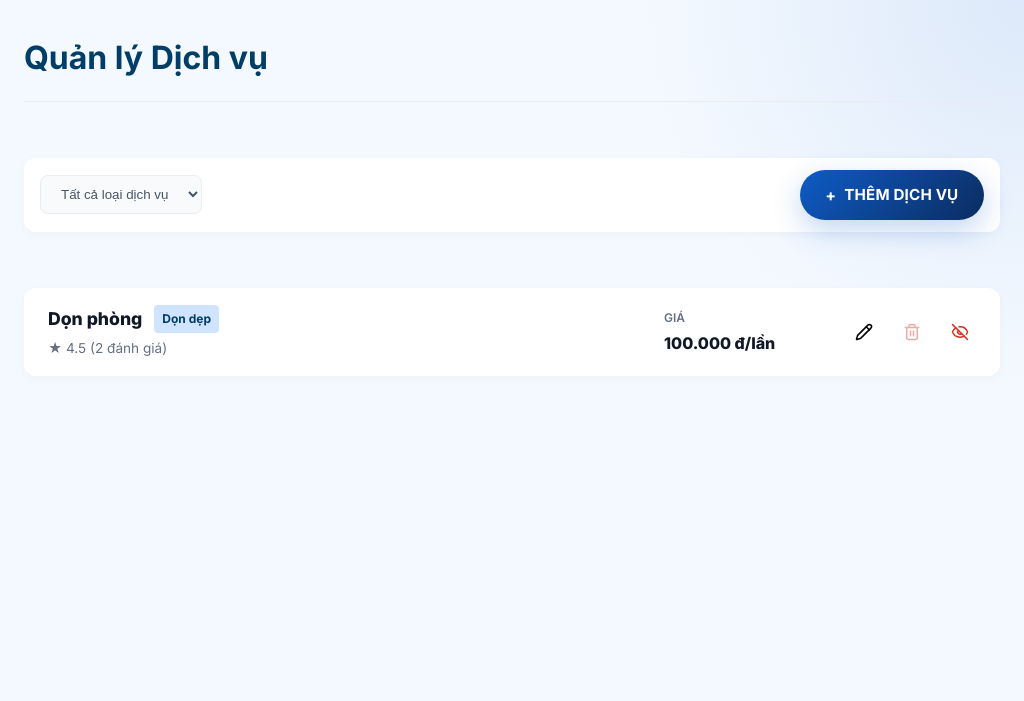
Scenario: ServiceManagement › bấm "Chọn ảnh" mở picker, chọn xong thì nối vào ô images
This screenshot has width=1024, height=701.
Expected: the text "Dọn phòng" is shown, [48,304,142,333]
Click the button "+ THÊM DỊCH VỤ". click: (892, 195)
box: [800,170,984,220]
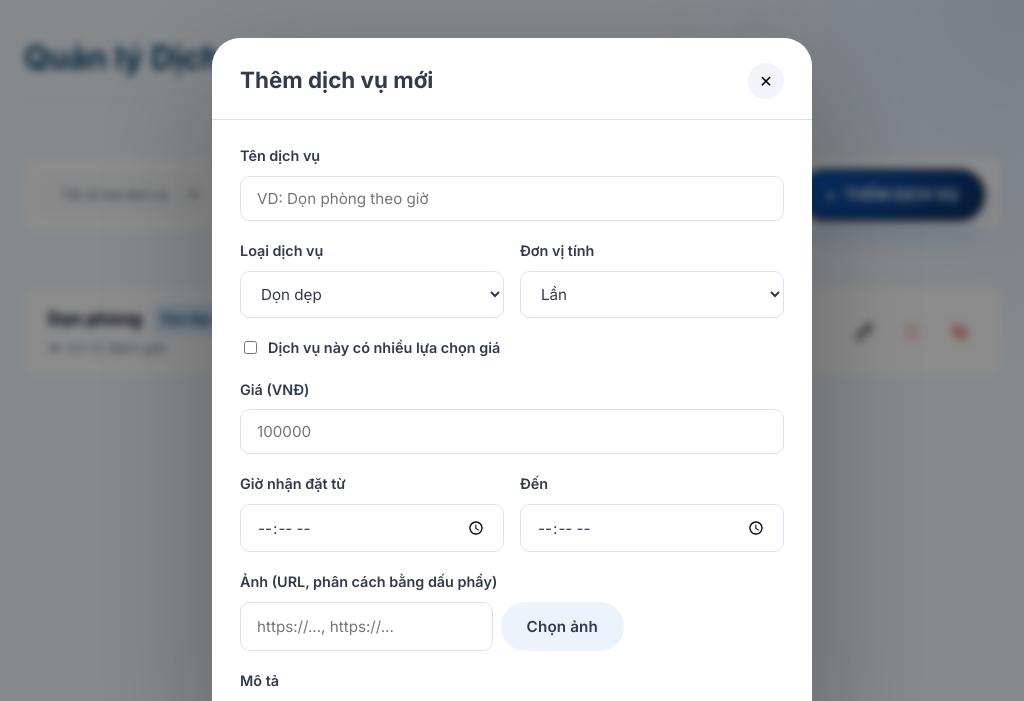
Click the button "Chọn ảnh". click: (562, 626)
box: [501,602,624,651]
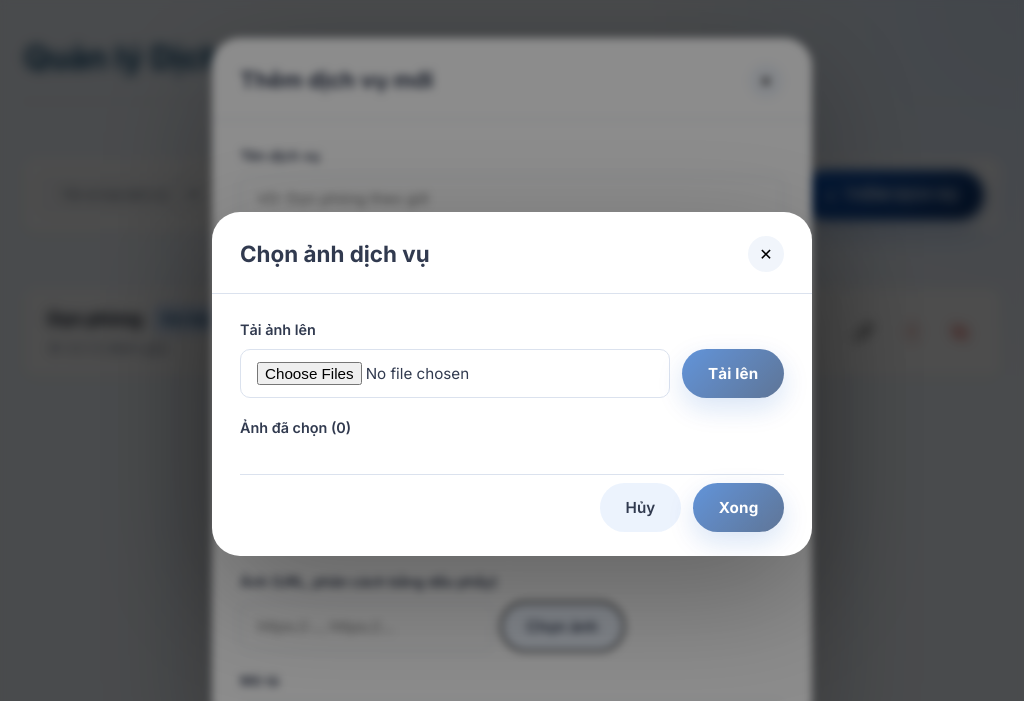
Result: the heading "Chọn ảnh dịch vụ" is shown at [240,236,430,273]
